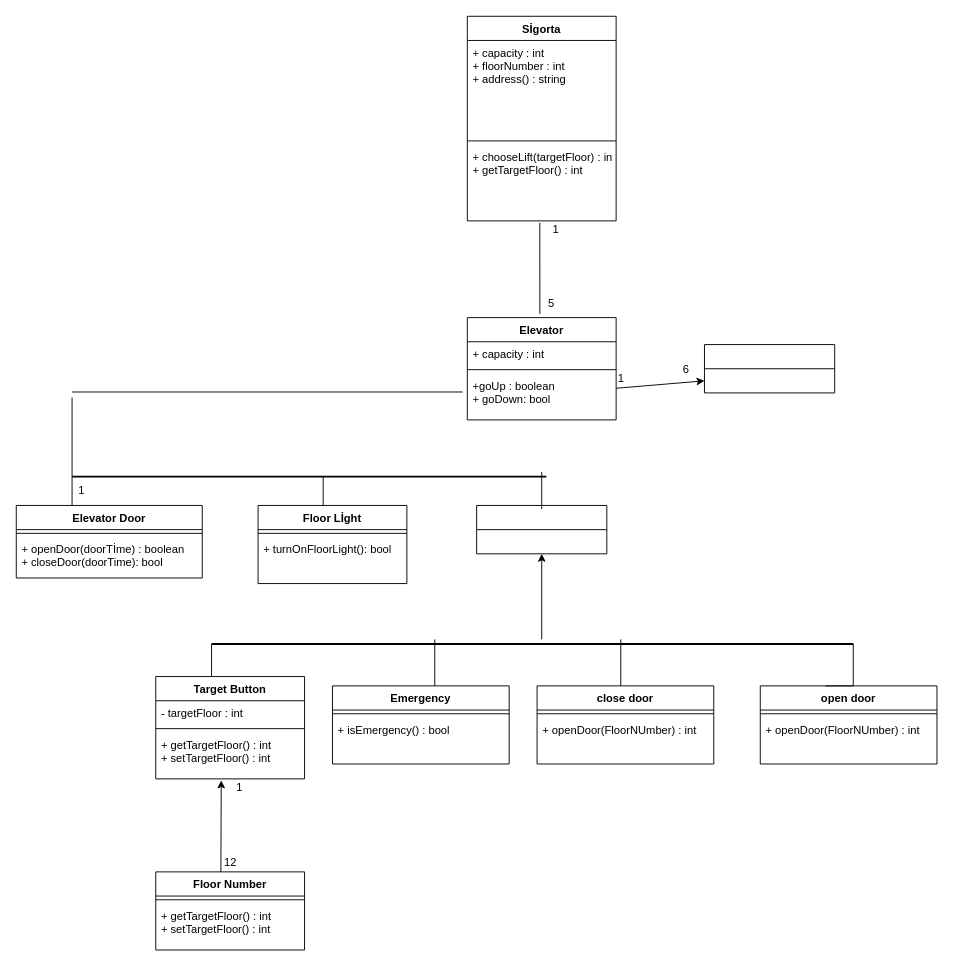
Image size: 953x969. Some labels were removed from this diagram. The centre of each missing label's shape, as x and y in pixels:
"Control panel" belongs at [541,529].
"Person" belongs at [769,368].
